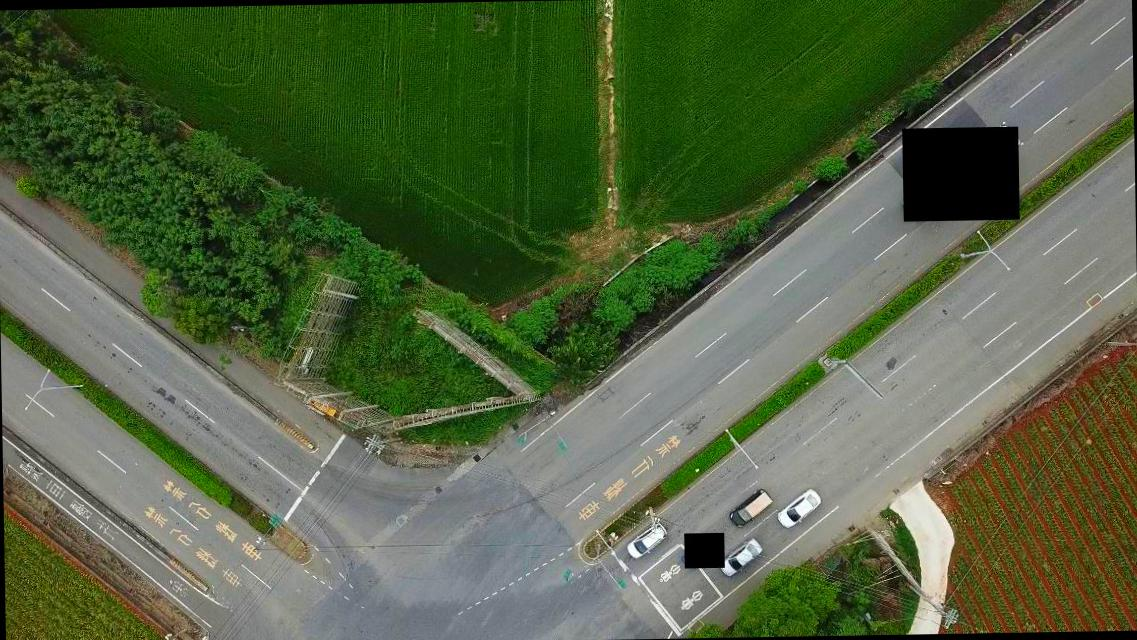vehicle: (776, 490, 824, 530), (729, 489, 771, 526), (627, 521, 668, 557), (722, 538, 762, 574)
